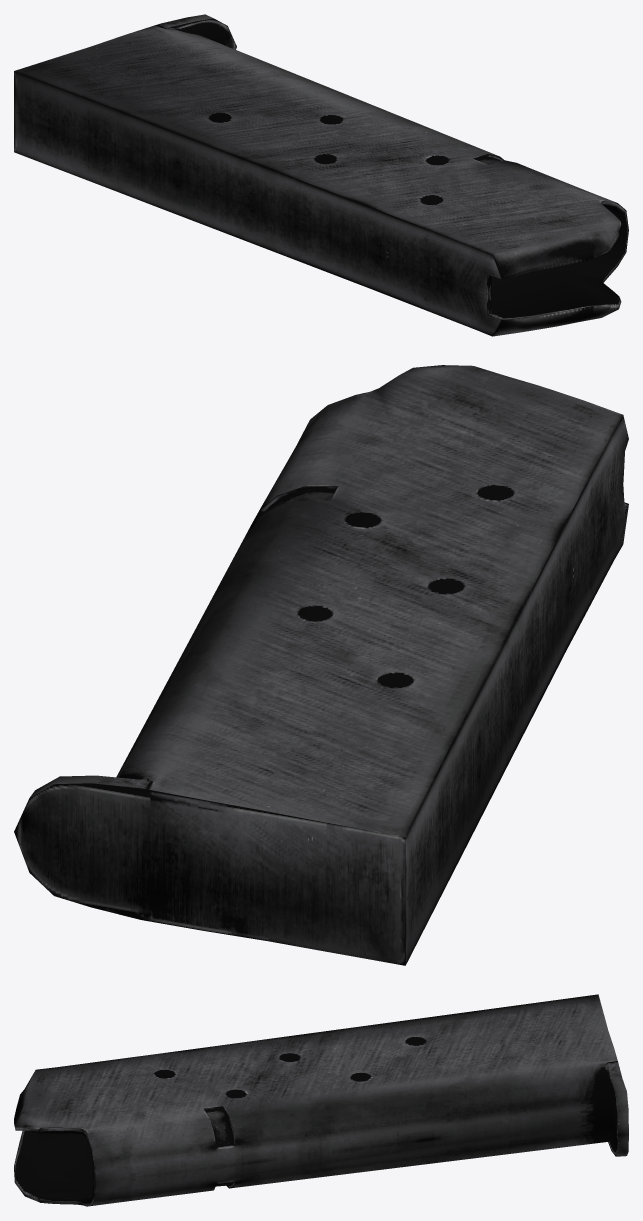
File: Mag45.fbx
The picture shows the model from 3 angles, top to bottom: view 1: azimuth 30°, elevation 25°; view 2: azimuth 150°, elevation 25°; view 3: azimuth 270°, elevation 25°; orthographic projection. The views are drawn at different scales.
Visible parts, largest first — view 1: Mag45; view 2: Mag45; view 3: Mag45.
Boxes of the visible parts, x1=… form: Mag45: x1=14, y1=14, x2=628, y2=336; Mag45: x1=14, y1=365, x2=628, y2=965; Mag45: x1=14, y1=994, x2=628, y2=1206.
Size of the model in its own units: 0.0563 by 0.0132 by 0.0966.
